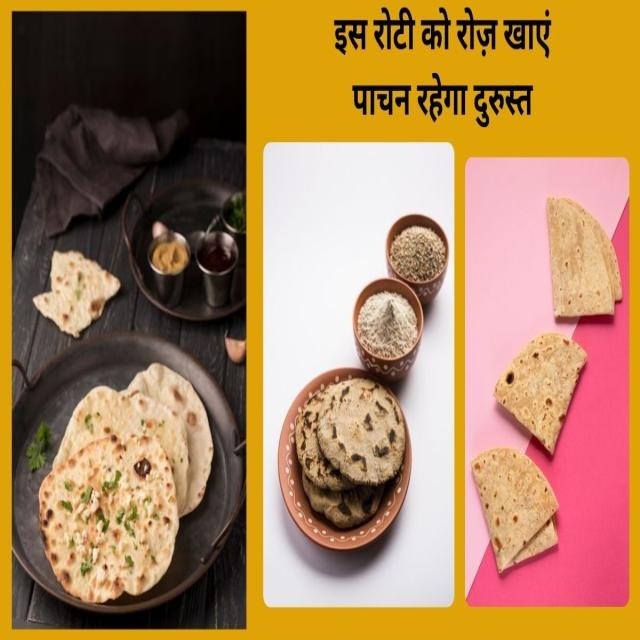ROTI: (39, 432, 178, 603), (129, 363, 213, 516), (493, 334, 586, 454), (471, 448, 557, 572), (316, 377, 405, 485), (547, 198, 621, 318), (53, 386, 141, 468)
